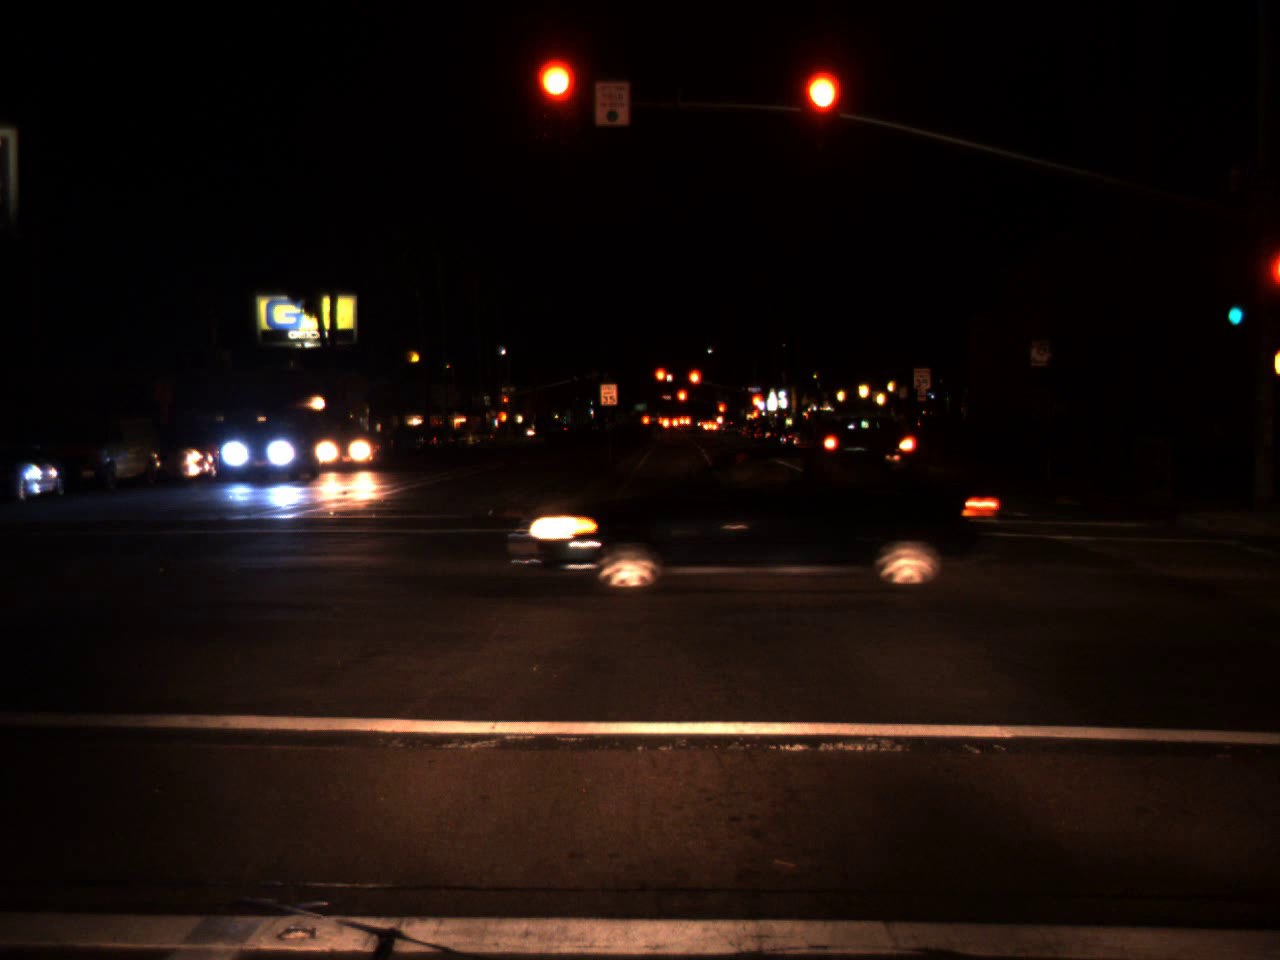stop: (536, 61, 577, 139), (802, 72, 841, 150), (653, 366, 671, 395), (686, 368, 702, 400), (675, 387, 688, 414), (749, 392, 764, 410), (717, 402, 726, 423), (503, 397, 509, 407)
